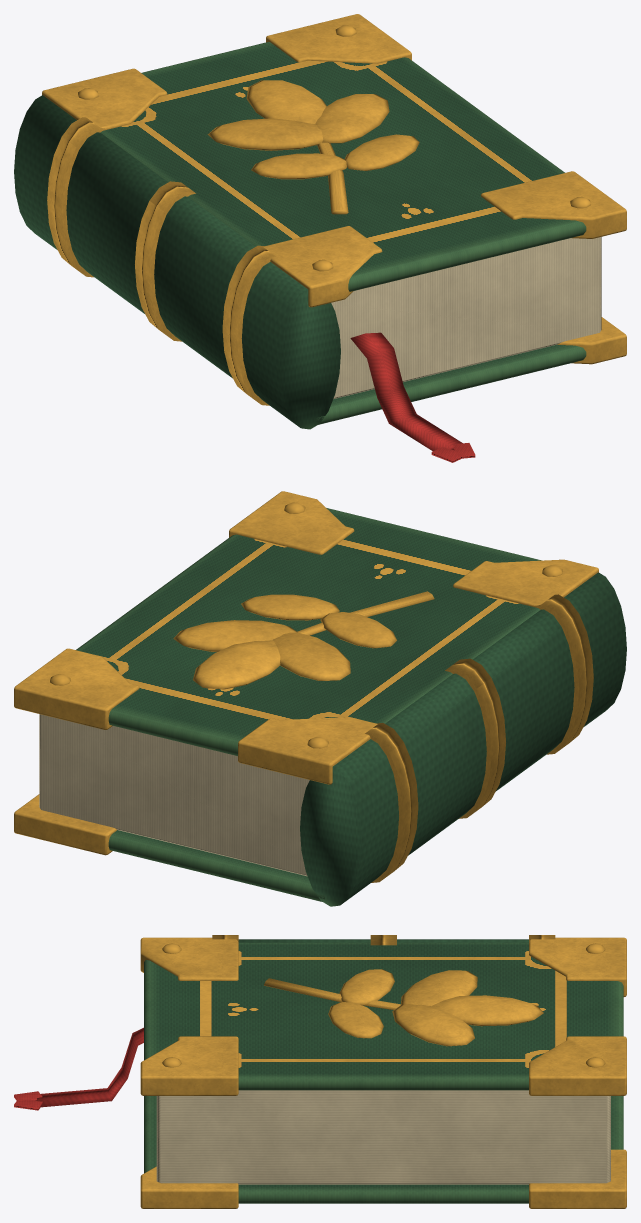
Rendered from book_forest.glb.
3 views of the same model, one above another, from view 1: azimuth 30°, elevation 25°; view 2: azimuth 150°, elevation 25°; view 3: azimuth 270°, elevation 25° (orthographic). The views are drawn at different scales.
Parts seen in each view (by area): view 1: model; view 2: model; view 3: model.
Boxes of the visible parts, box(x1,y1,x2,y2) form: model: box(14, 14, 626, 462); model: box(14, 491, 626, 906); model: box(14, 935, 626, 1208).
Size of the model in its own units: 0.1718 by 0.0732 by 0.2874.
5 materials, 5 textured.
